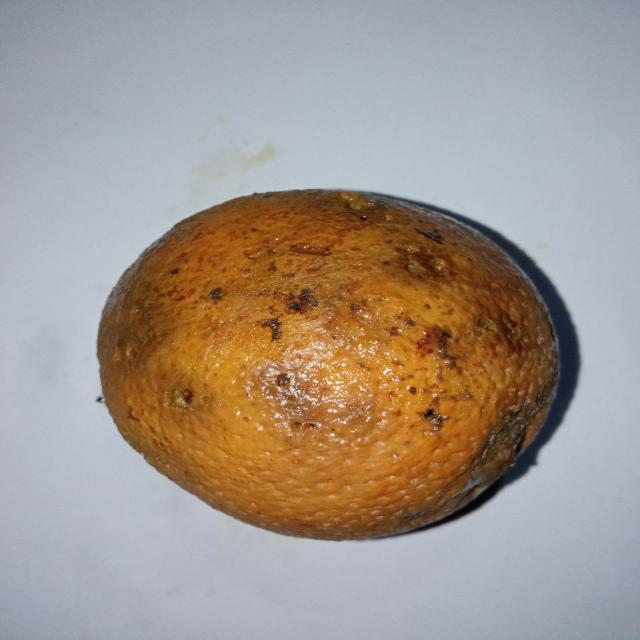rotten_orange: (94, 190, 557, 540)
